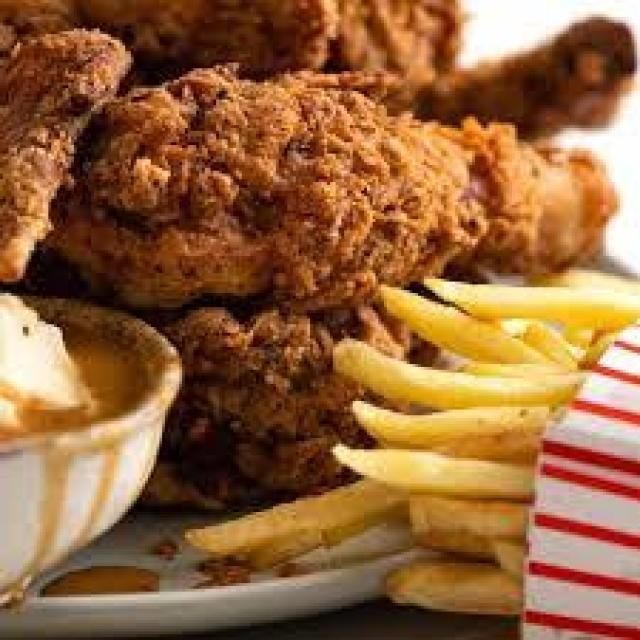Chicken -Fried Chicken-: (0, 0, 596, 308)
